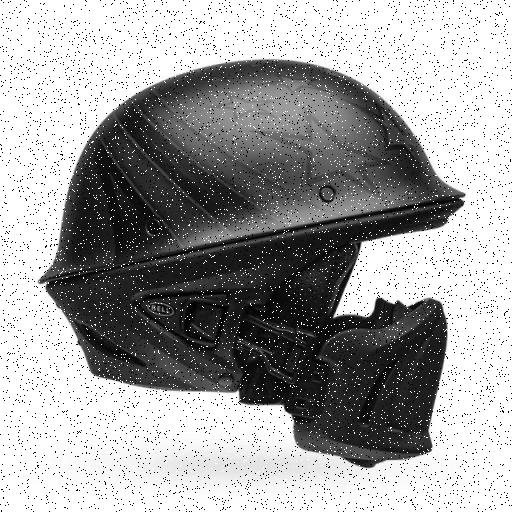Helmet: (48, 52, 473, 478)
